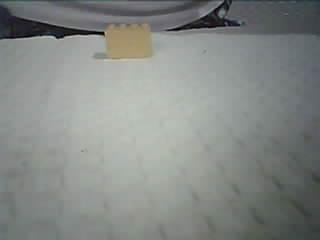lego: (103, 22, 153, 59)
